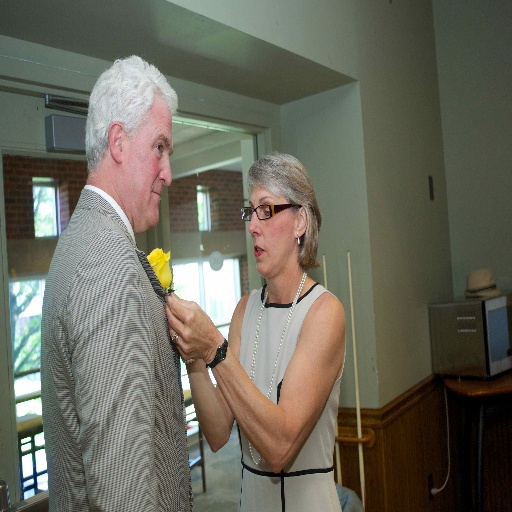hand: (164, 302, 222, 368), (170, 289, 180, 300)
